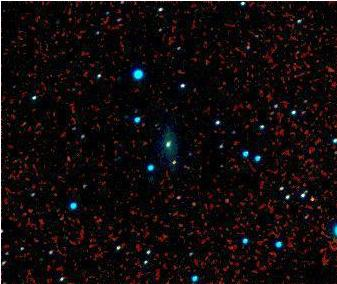star: (296, 183, 326, 213)
